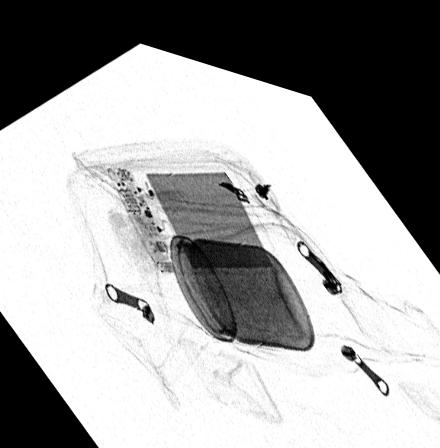Powerbank: (103, 151, 280, 262)
